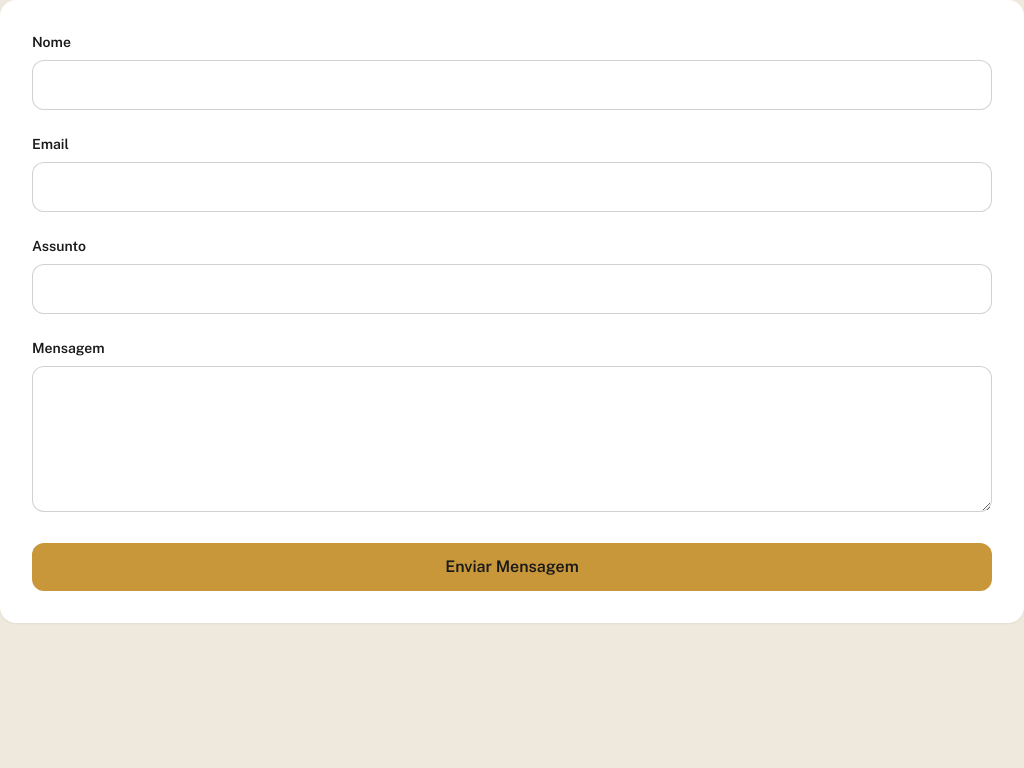
it: ContactForm › disables submit button while submitting
In the field labelled "Nome": (512, 85) [32,60,992,110], type "Test User"
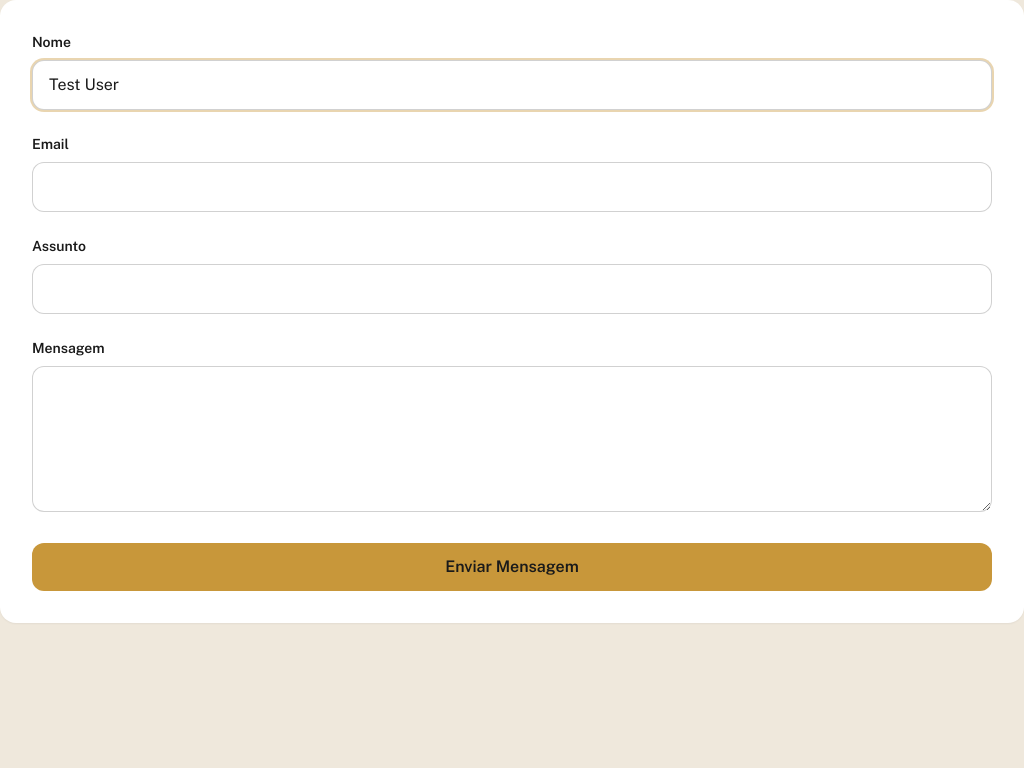
In the field labelled "Email": (512, 187) [32,162,992,212], type "test@example.com"
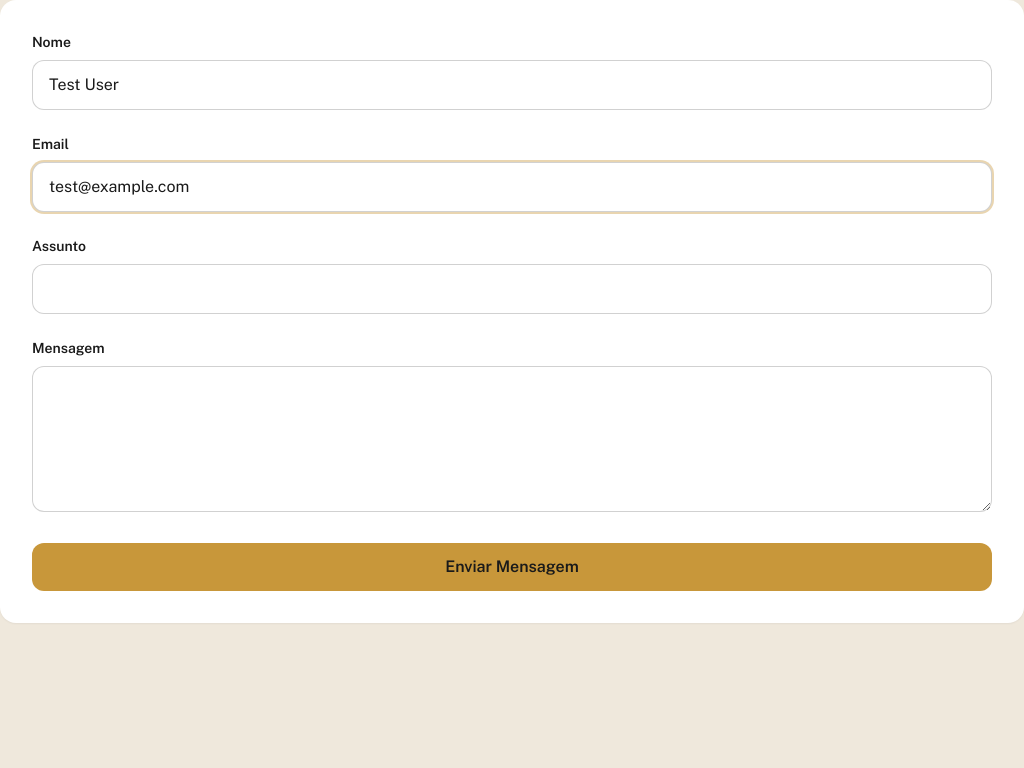
In the field labelled "Assunto": (512, 289) [32,264,992,314], type "Test Subject"
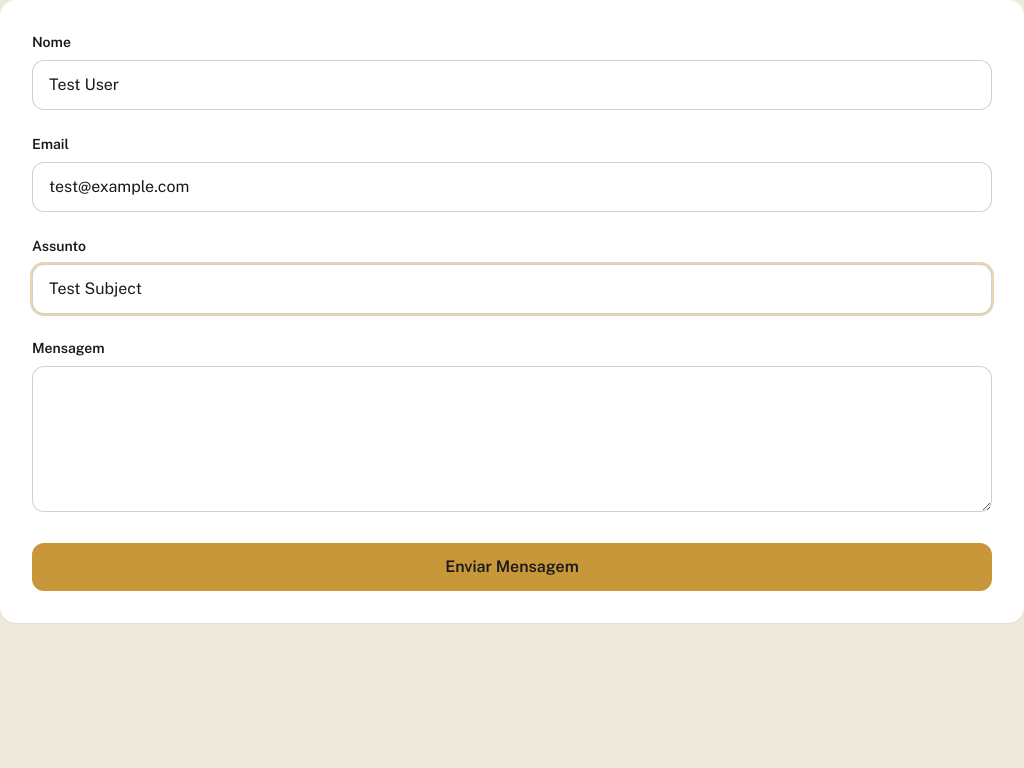
In the text box labelled "Mensagem": (512, 439) [32,366,992,512], type "Test message"
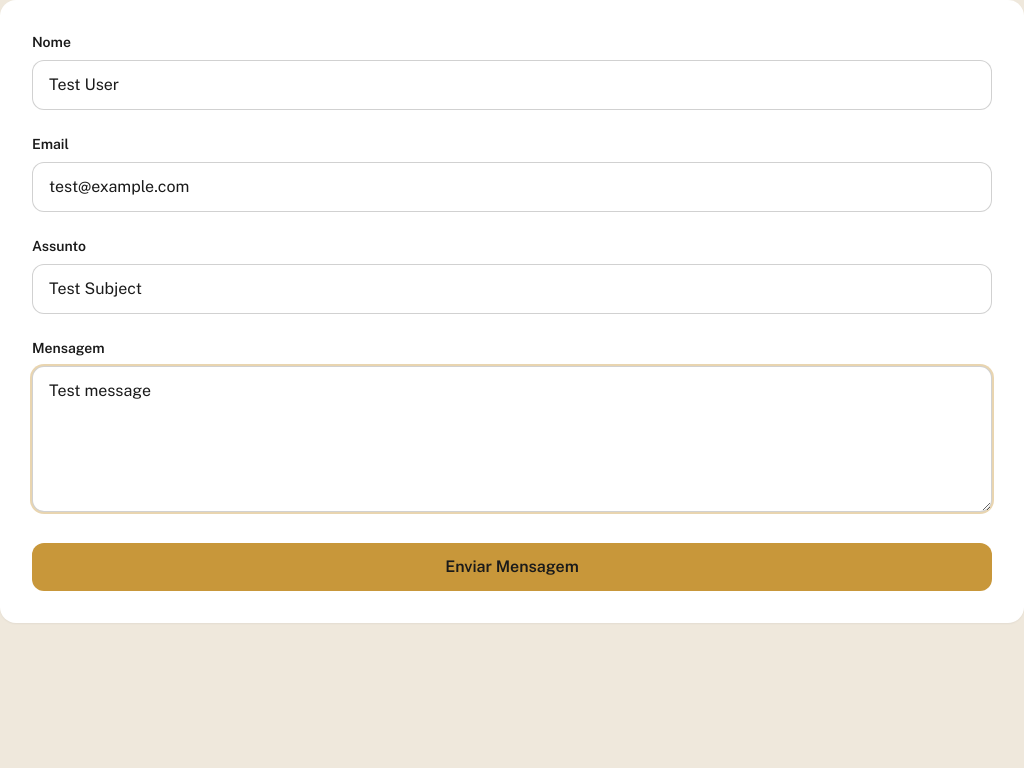
Click the button "Enviar Mensagem": click(512, 567) [32,543,992,591]
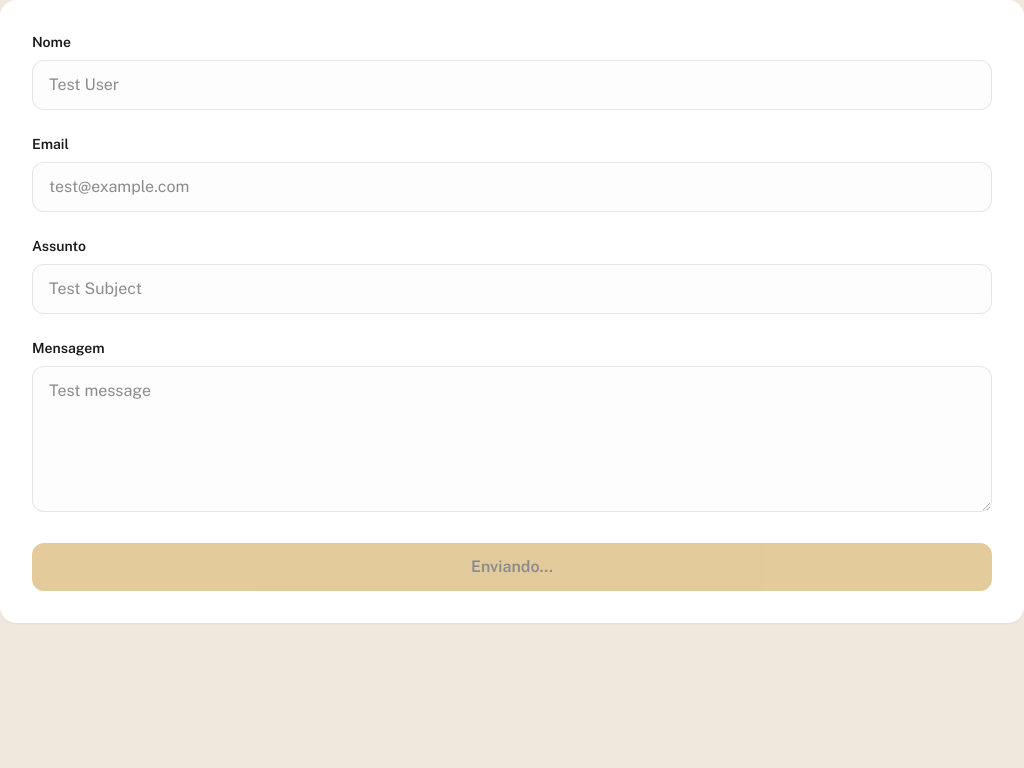
Expected: the button "Enviando..." is disabled, [32,543,992,591]
